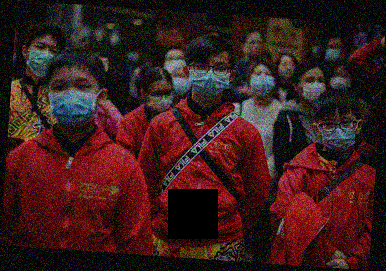with_mask: (46, 75, 99, 125), (188, 58, 231, 99), (316, 112, 358, 151), (27, 41, 60, 78), (298, 74, 325, 103), (250, 69, 276, 95), (146, 87, 173, 112), (170, 70, 193, 97), (162, 53, 187, 74), (329, 72, 350, 92), (322, 42, 342, 61)
without_mask: (277, 59, 296, 78), (245, 38, 263, 57)
